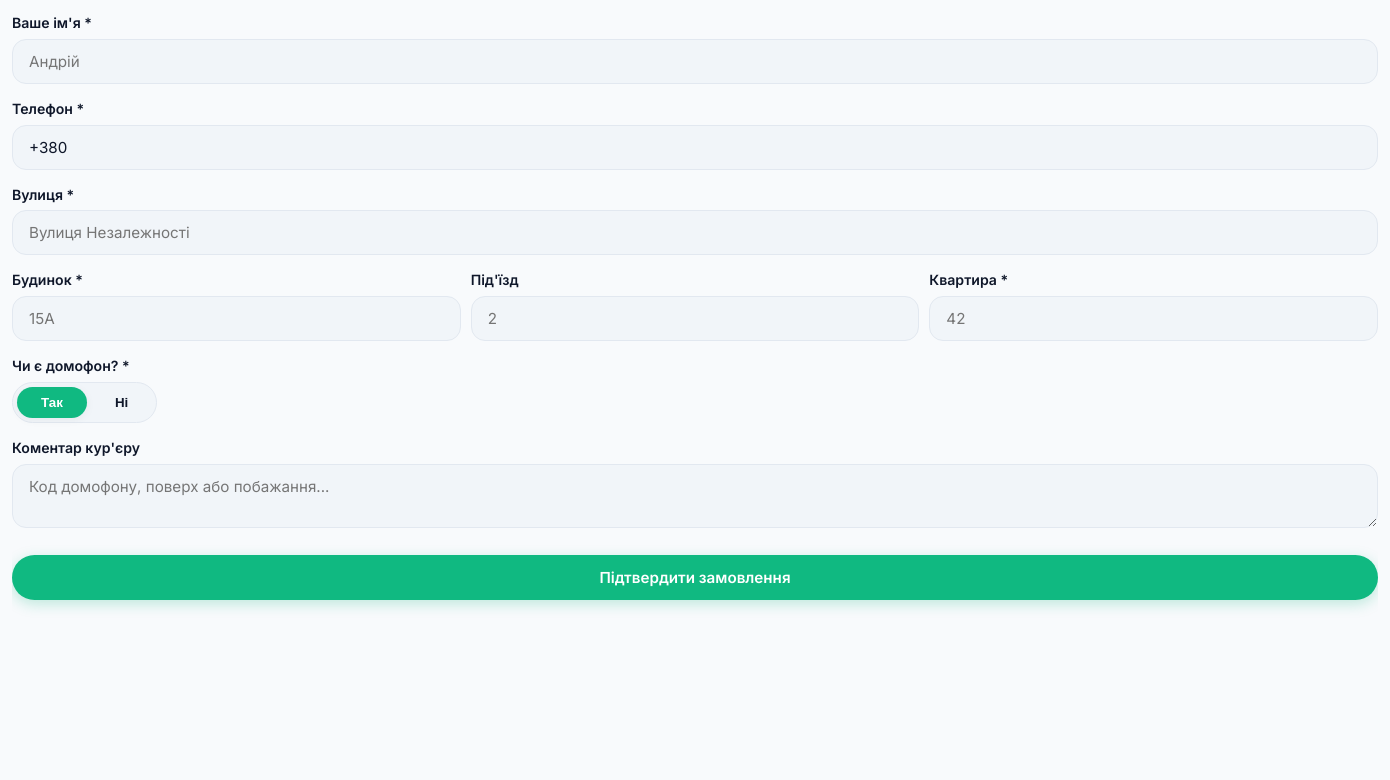
Dragon Food — Модульне та компонентне тестування › 5. Перемикає стан домофону між "Так" та "Ні"
This screenshot has width=1390, height=780.
Click the button "Ні". click: x=122, y=403
box: [91,387,152,418]
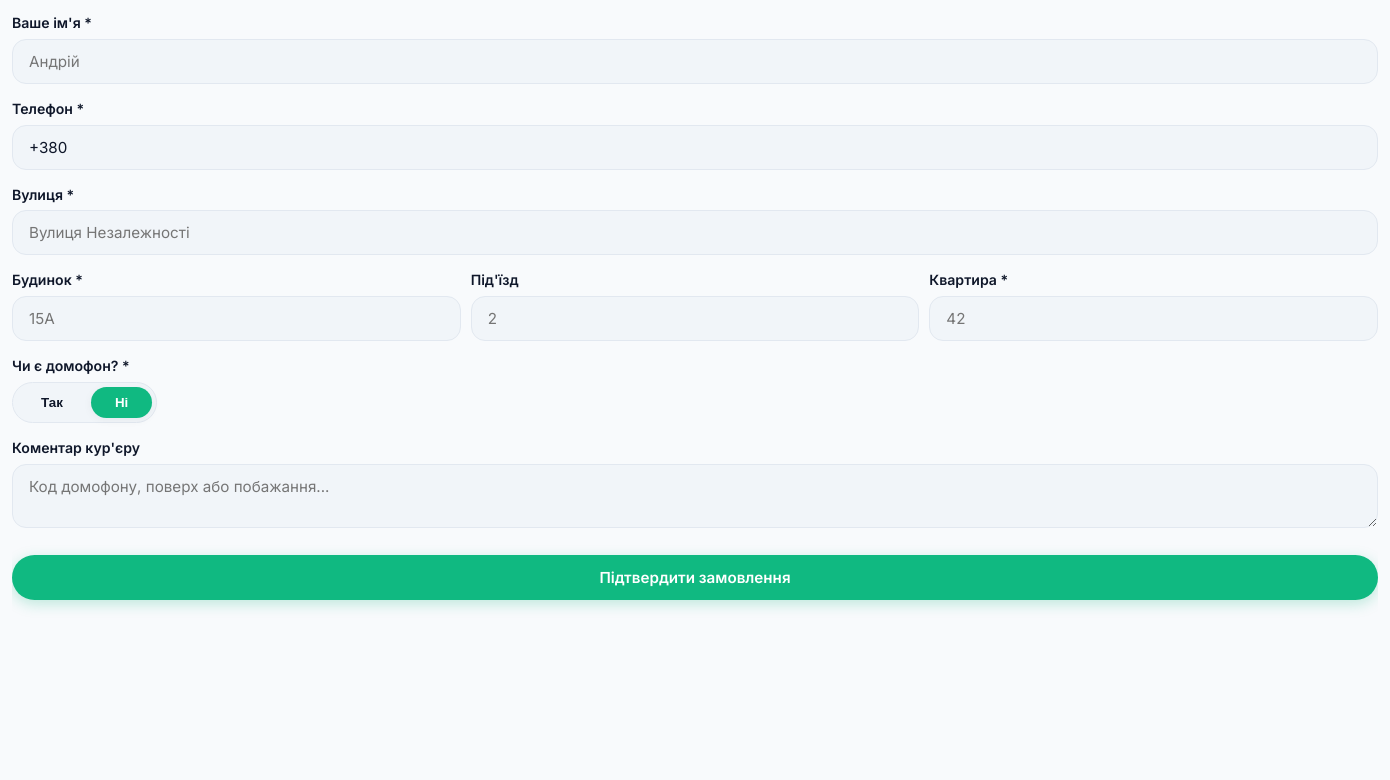
Expected: the button "Ні" has class "active", [91,387,152,418]
